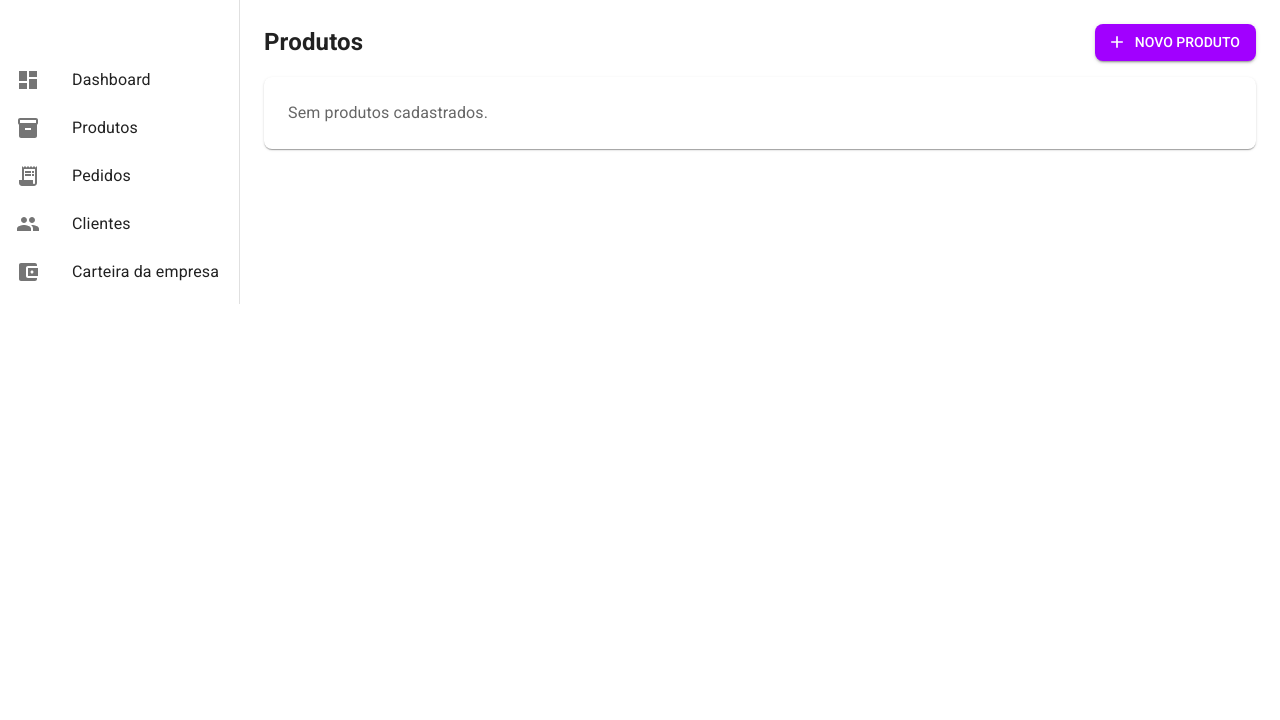
AdminProducts › campo de estoque ignora letras digitadas
Expected: the text "Sem produtos cadastrados." is shown, [288,102,488,122]
Click the button "Novo produto" at (1175, 42), box [1095,24,1256,60]
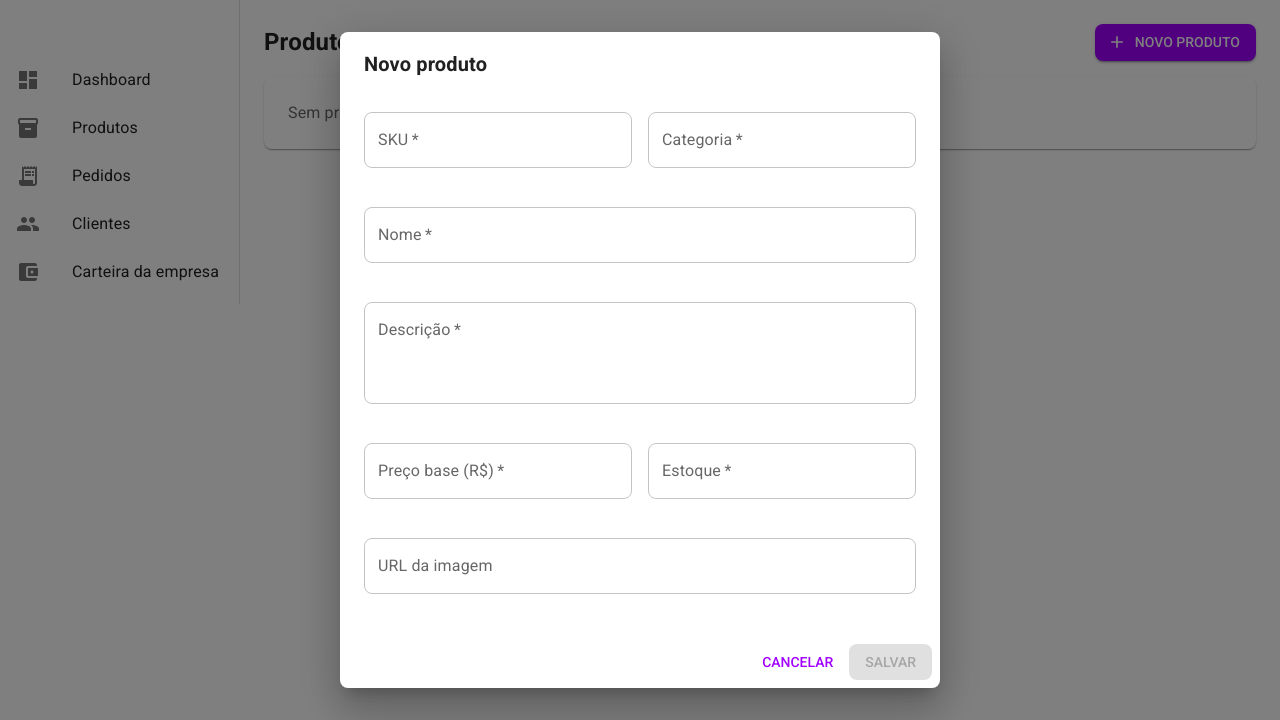
Type "abc10xyz" into the field labelled "Estoque *" at (782, 471), box [648,443,916,499]
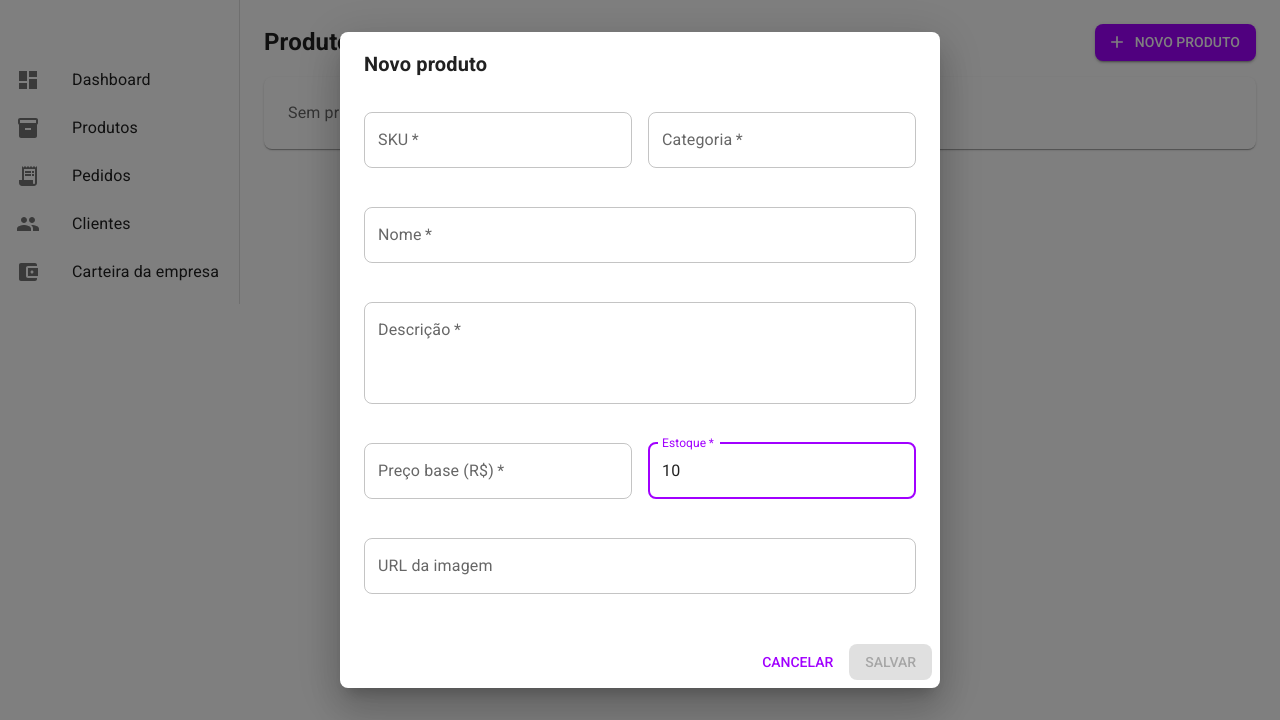
Now the field labelled "Estoque *" holds "10", box [648,443,916,499]
